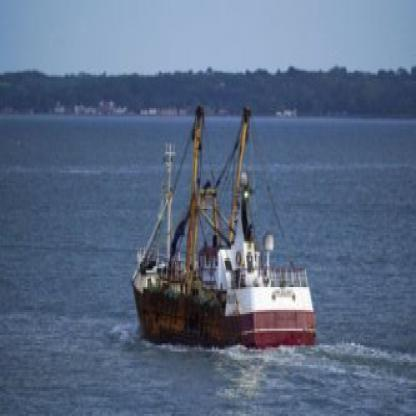fish-b: (121, 92, 332, 366)
